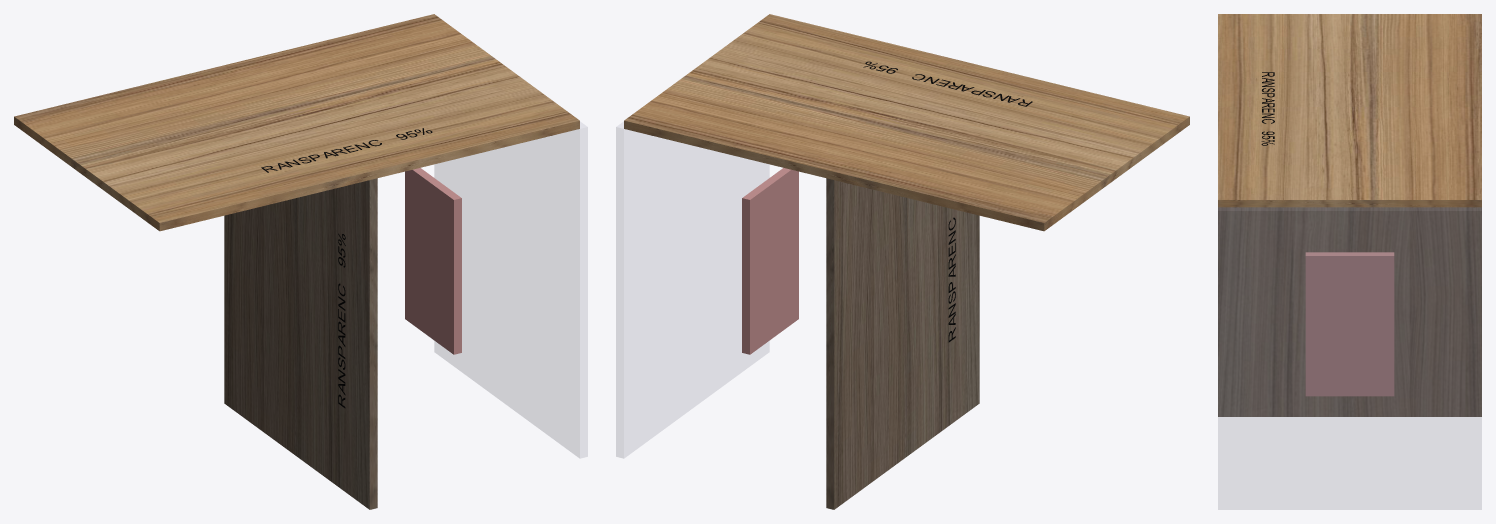
The model's file is twoParts-transparent95.gltf.
3 views of the same model, side by side, from view 1: azimuth 30°, elevation 25°; view 2: azimuth 150°, elevation 25°; view 3: azimuth 270°, elevation 25° (orthographic). The views are drawn at different scales.
Parts seen in each view (by area): view 1: {25686E01-54E4-4237-A3E1-6D3E6D29E51C}_Node, {686604B9-2863-4a23-840D-5C56A71E897E}_Node, {1FA18999-0E02-4396-86E4-E4E7E05F59BF}_Node, {4AE69299-65D1-484f-A18C-0F0BBBC1D980}_Node; view 2: {25686E01-54E4-4237-A3E1-6D3E6D29E51C}_Node, {686604B9-2863-4a23-840D-5C56A71E897E}_Node, {1FA18999-0E02-4396-86E4-E4E7E05F59BF}_Node, {4AE69299-65D1-484f-A18C-0F0BBBC1D980}_Node; view 3: {1FA18999-0E02-4396-86E4-E4E7E05F59BF}_Node, {25686E01-54E4-4237-A3E1-6D3E6D29E51C}_Node, {686604B9-2863-4a23-840D-5C56A71E897E}_Node, {4AE69299-65D1-484f-A18C-0F0BBBC1D980}_Node, {15EE8765-5140-4f41-B9DF-2093271E5774}_Node.
Part boxes in pixels (x1,y1,x2,y2): {25686E01-54E4-4237-A3E1-6D3E6D29E51C}_Node: (14,14,579,231); {686604B9-2863-4a23-840D-5C56A71E897E}_Node: (224,178,377,509); {1FA18999-0E02-4396-86E4-E4E7E05F59BF}_Node: (434,122,587,458); {4AE69299-65D1-484f-A18C-0F0BBBC1D980}_Node: (405,168,461,354); {25686E01-54E4-4237-A3E1-6D3E6D29E51C}_Node: (624,14,1189,231); {686604B9-2863-4a23-840D-5C56A71E897E}_Node: (826,178,979,509); {1FA18999-0E02-4396-86E4-E4E7E05F59BF}_Node: (616,122,769,458); {4AE69299-65D1-484f-A18C-0F0BBBC1D980}_Node: (742,168,798,354); {1FA18999-0E02-4396-86E4-E4E7E05F59BF}_Node: (1218,207,1481,509); {25686E01-54E4-4237-A3E1-6D3E6D29E51C}_Node: (1218,14,1481,207); {686604B9-2863-4a23-840D-5C56A71E897E}_Node: (1218,207,1481,416); {4AE69299-65D1-484f-A18C-0F0BBBC1D980}_Node: (1305,252,1394,396); {15EE8765-5140-4f41-B9DF-2093271E5774}_Node: (1261,72,1274,145).
Bounding box in the file's own units: 1.02 × 0.7695 × 0.6.
6 materials, 2 textured.
